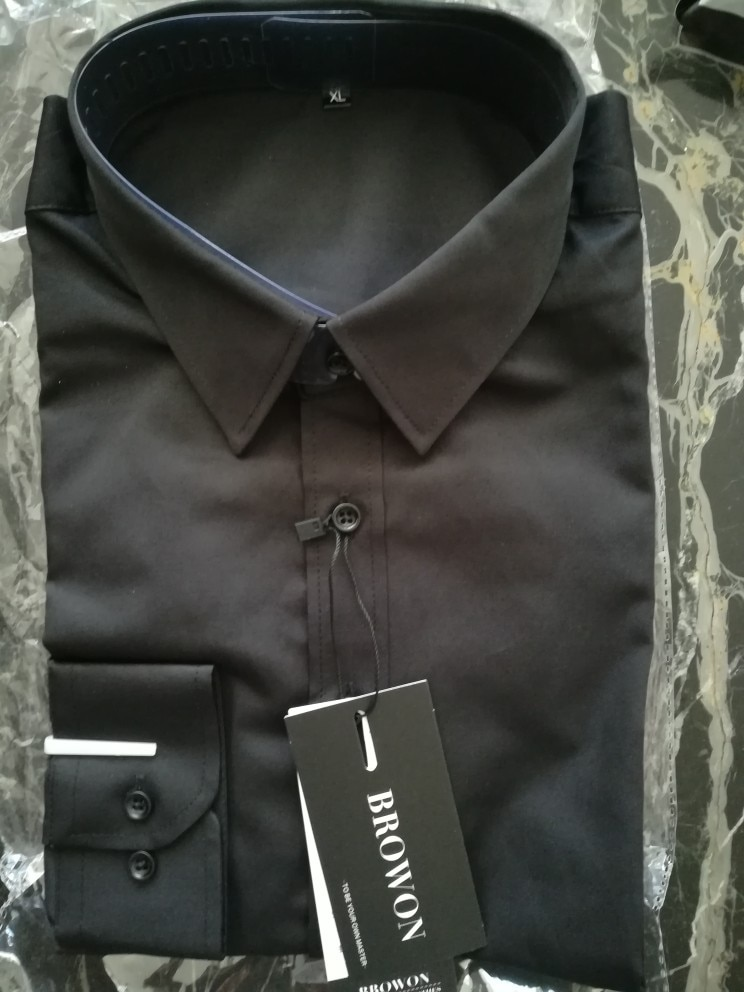shirts: (45, 21, 665, 961)
